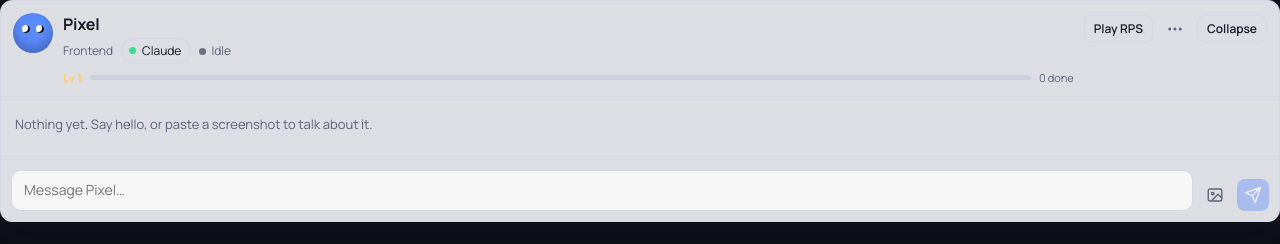
Test: ChatPanel › typing and pressing Enter sends chat.send with no images
Type "Fix the header" into the text box labelled "Message Pixel…" at (602, 191), box [11, 170, 1193, 211]
Then press Enter
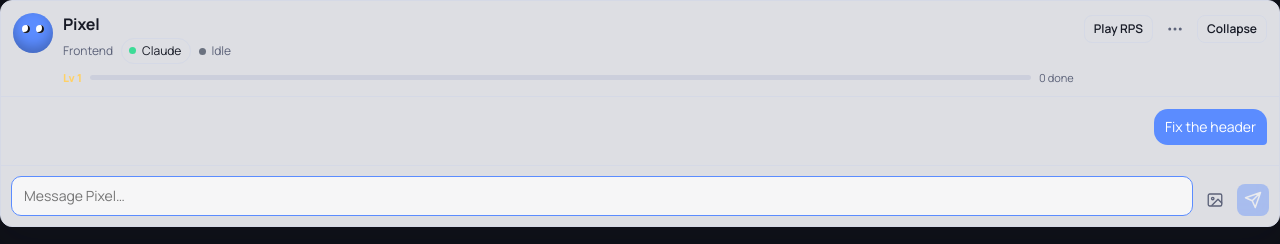
Now the text "Fix the header" is shown, box [1154, 108, 1267, 145]
